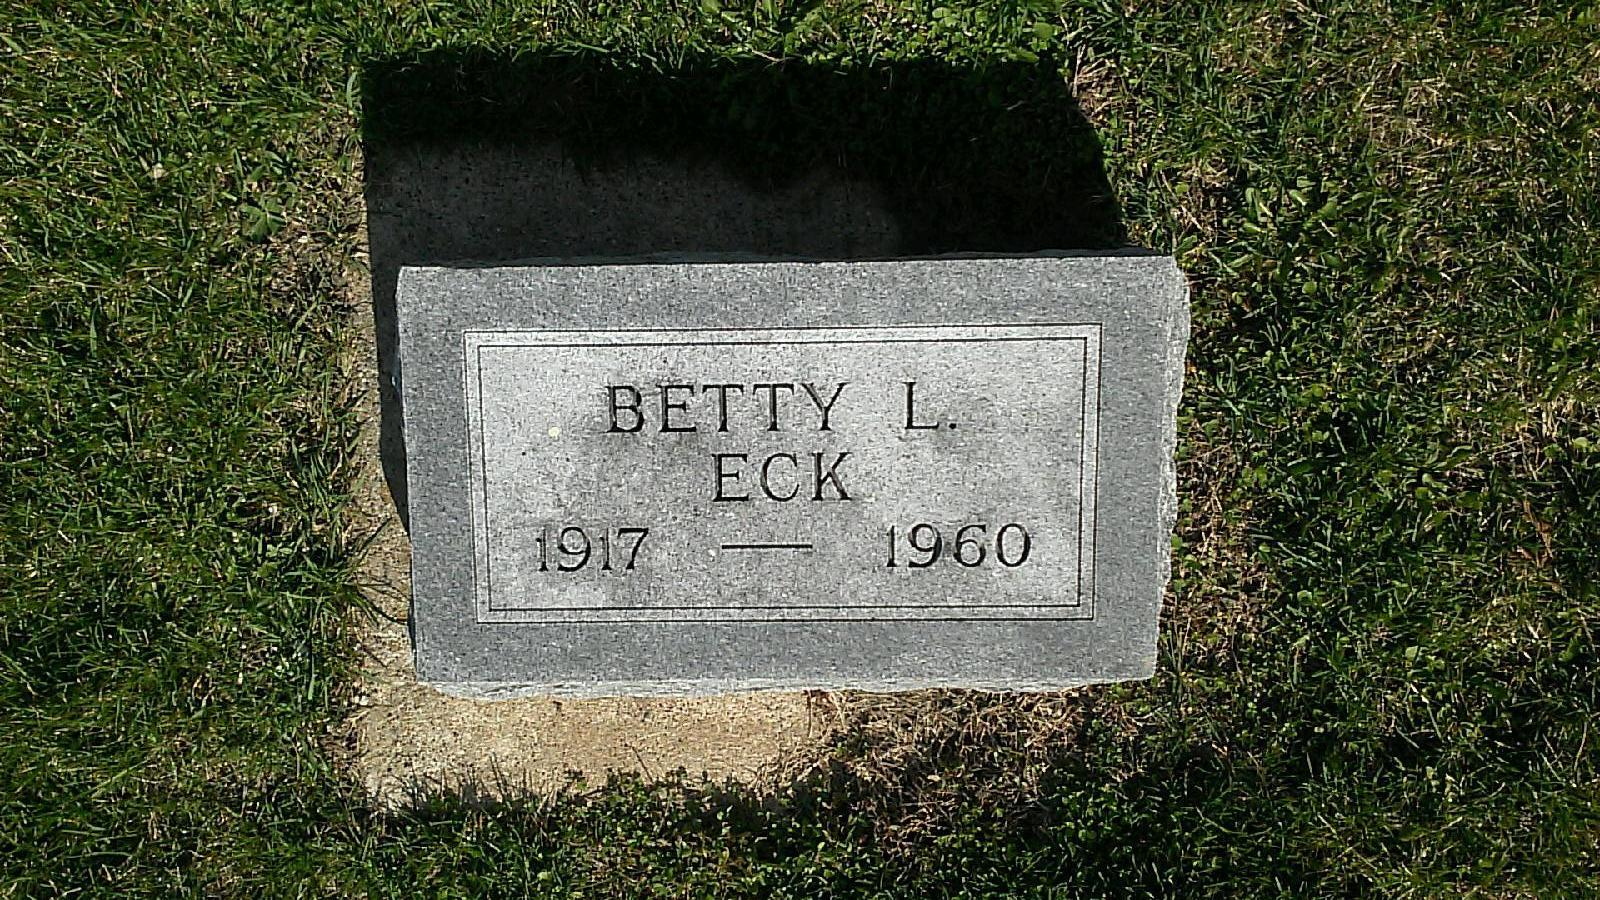flat: (385, 244, 1176, 696)
